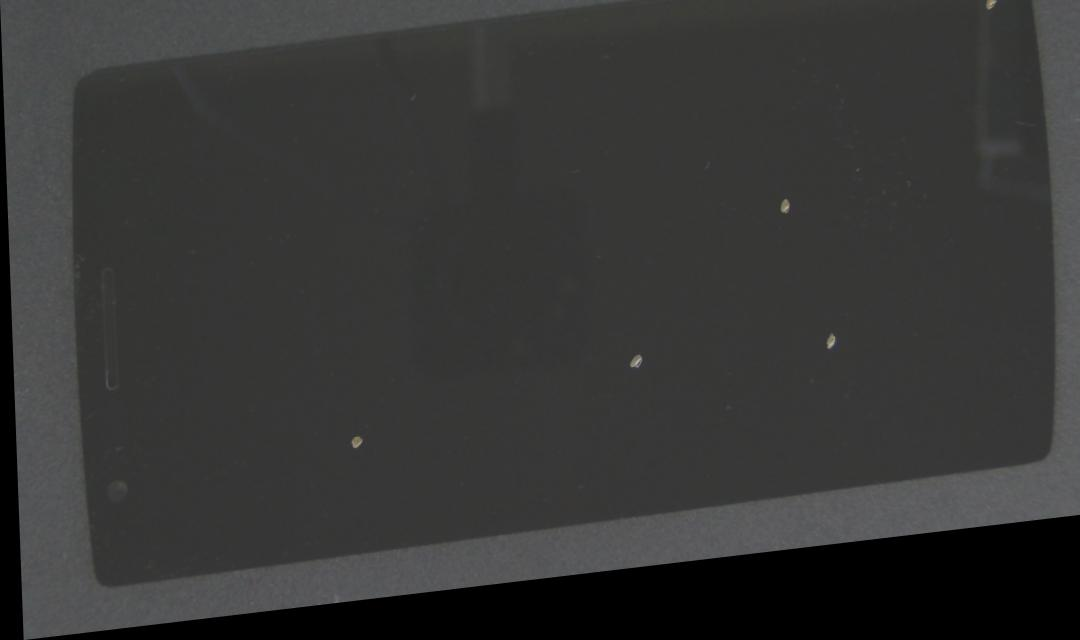Scratches: (612, 341, 649, 383), (810, 325, 854, 359), (769, 191, 805, 228), (346, 423, 372, 466)
